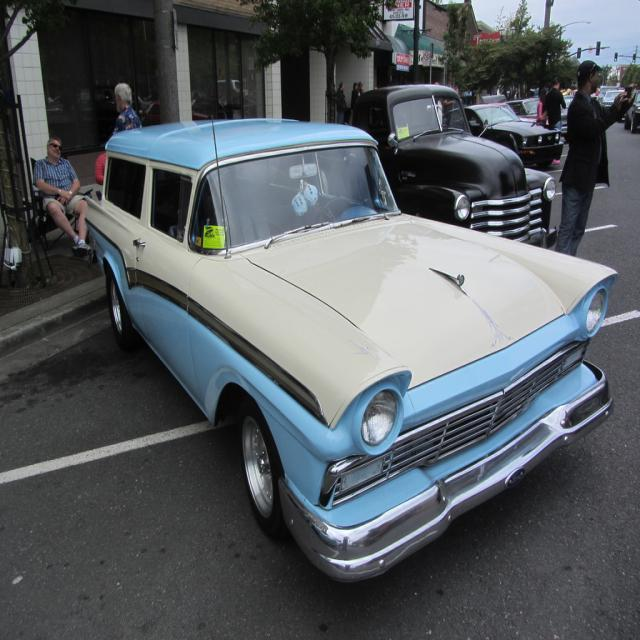car: (83, 120, 624, 571)
